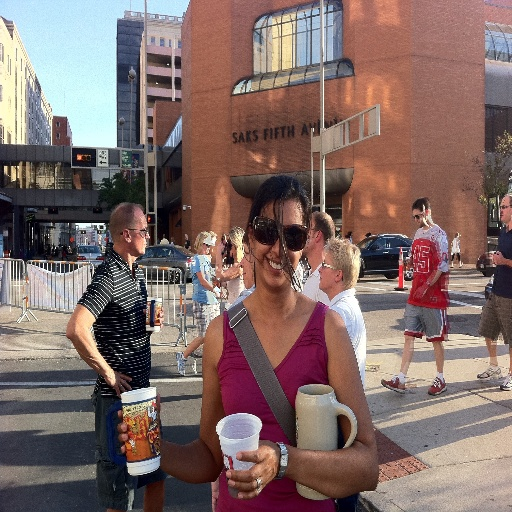hand: (116, 391, 162, 456), (233, 440, 288, 494), (103, 369, 133, 399), (141, 303, 164, 327), (412, 284, 427, 302), (215, 240, 227, 255), (491, 251, 503, 266), (215, 291, 221, 299)
